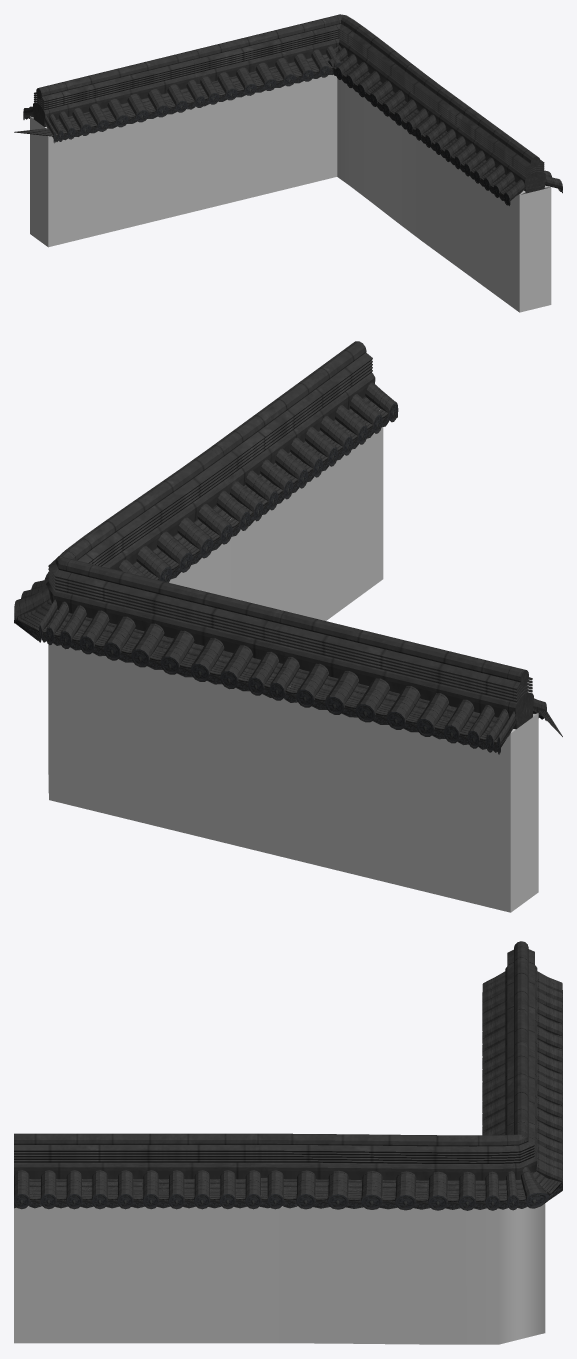
File: SM_JSH_HG_StoneWallH_Splines_29.fbx
3 views of the same model, one above another, from view 1: azimuth 30°, elevation 25°; view 2: azimuth 150°, elevation 25°; view 3: azimuth 270°, elevation 25° (orthographic). The views are drawn at different scales.
Visible parts, largest first — view 1: SM_JSH_HG_StoneWallH_Splines_29; view 2: SM_JSH_HG_StoneWallH_Splines_29; view 3: SM_JSH_HG_StoneWallH_Splines_29.
Boxes of the visible parts, x1=… form: SM_JSH_HG_StoneWallH_Splines_29: x1=14, y1=14, x2=562, y2=312; SM_JSH_HG_StoneWallH_Splines_29: x1=14, y1=341, x2=562, y2=912; SM_JSH_HG_StoneWallH_Splines_29: x1=14, y1=941, x2=562, y2=1344.
Bounding box in the file's own units: 439 × 446 × 178.
